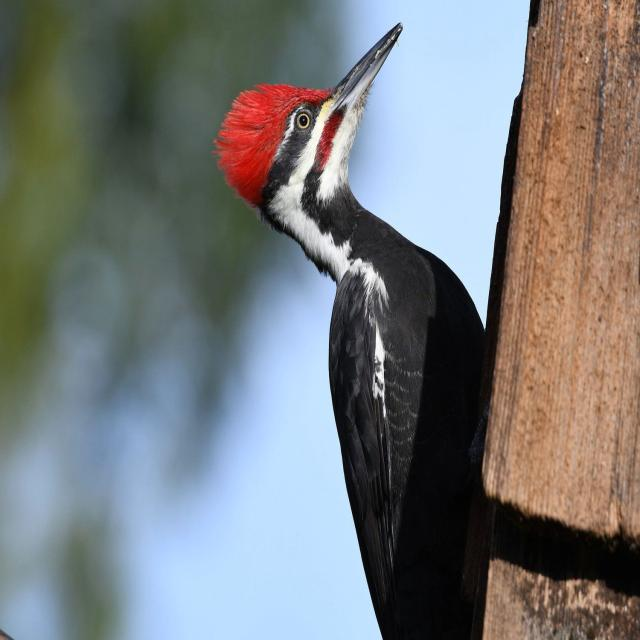woodpecker: (216, 24, 484, 639)
